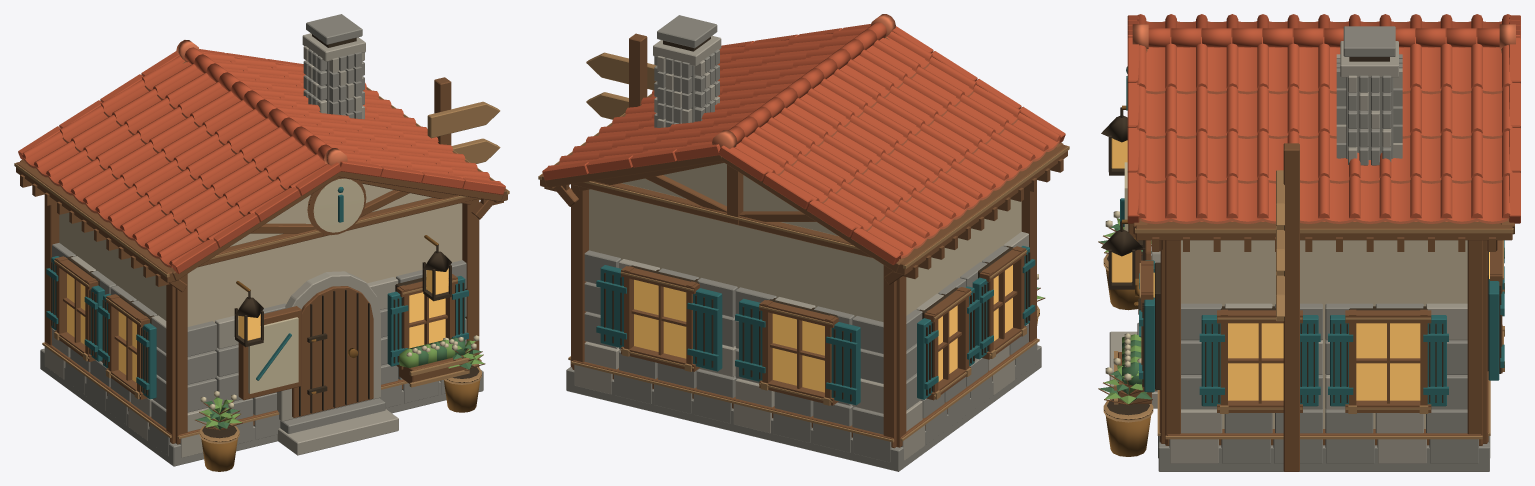
3 views of the same model, side by side, from view 1: azimuth 30°, elevation 25°; view 2: azimuth 150°, elevation 25°; view 3: azimuth 270°, elevation 25° (orthographic). The views are drawn at different scales.
Visible parts, largest first — view 1: alpine_junction_hub_geometry, alpine_junction_hub_geometry ceramic; view 2: alpine_junction_hub_geometry, alpine_junction_hub_geometry ceramic; view 3: alpine_junction_hub_geometry, alpine_junction_hub_geometry ceramic.
Boxes of the visible parts, box(x1,y1,x2,y2) form: alpine_junction_hub_geometry: box(14, 14, 509, 471); alpine_junction_hub_geometry ceramic: box(18, 40, 505, 273); alpine_junction_hub_geometry: box(538, 15, 1069, 471); alpine_junction_hub_geometry ceramic: box(542, 14, 1065, 264); alpine_junction_hub_geometry: box(1098, 22, 1514, 471); alpine_junction_hub_geometry ceramic: box(1127, 14, 1520, 223).
Size of the model in its own units: 1.04 by 0.8093 by 0.7822.
